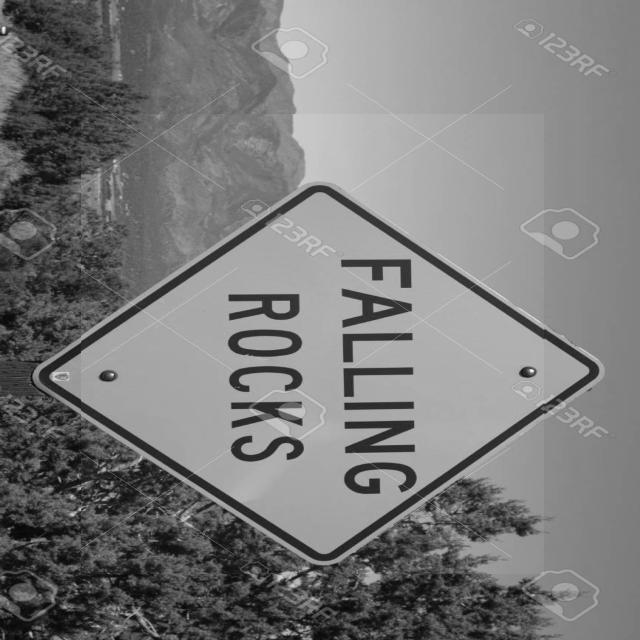falling rocks: (30, 179, 606, 575)
